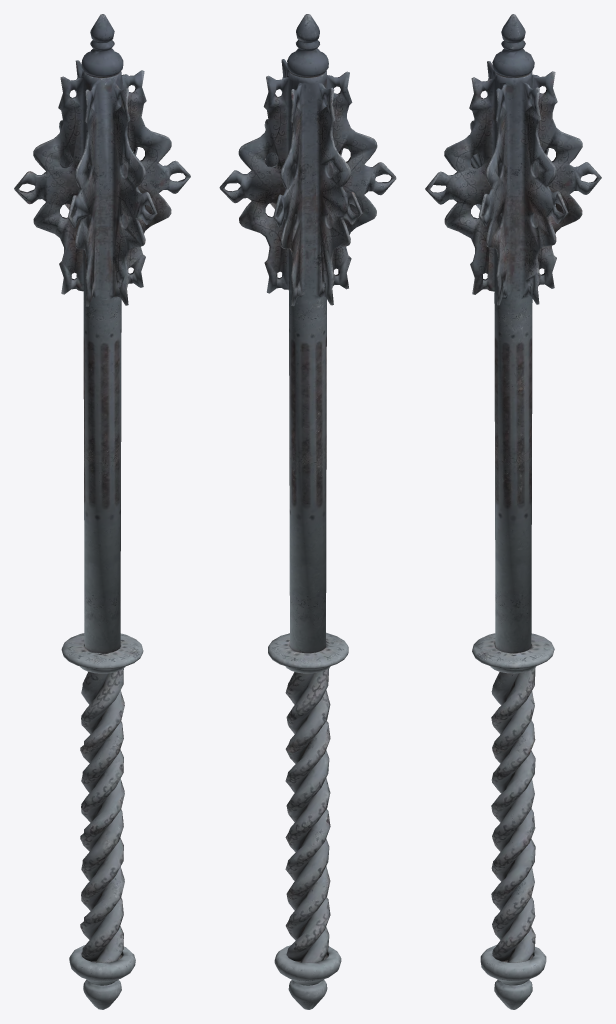
The model's file is ornate_medieval_mace.glb.
The picture shows the model from 3 angles, left to right: view 1: azimuth 30°, elevation 25°; view 2: azimuth 150°, elevation 25°; view 3: azimuth 270°, elevation 25°; orthographic projection.
Visible parts, largest first — view 1: ornate_medieval_mace; view 2: ornate_medieval_mace; view 3: ornate_medieval_mace.
Part boxes in pixels (x1=…): ornate_medieval_mace: x1=14, y1=14, x2=190, y2=1009; ornate_medieval_mace: x1=219, y1=14, x2=396, y2=1009; ornate_medieval_mace: x1=425, y1=14, x2=601, y2=1009.
Bounding box in the file's own units: 0.0949 × 0.6299 × 0.1015.
1 material, 1 textured.
